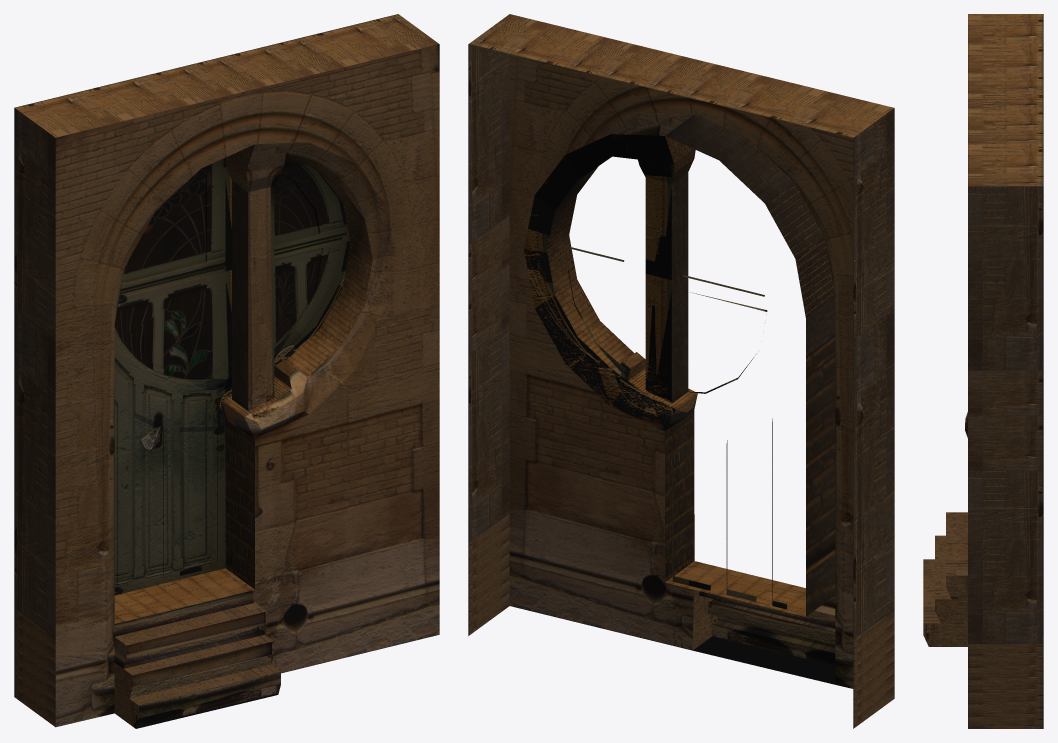
The picture shows the model from 3 angles, left to right: view 1: azimuth 30°, elevation 25°; view 2: azimuth 150°, elevation 25°; view 3: azimuth 270°, elevation 25°; orthographic projection. The views are drawn at different scales.
Visible parts, largest first — view 1: Circle, Circle.001; view 2: Circle, Circle.001; view 3: Circle.
Part boxes in pixels (x1,y1,x2,y2): Circle: (14,14,439,728); Circle.001: (114,158,350,595); Circle: (468,14,894,728); Circle.001: (524,134,787,609); Circle: (923,14,1043,728).
Size of the model in its own units: 120 by 177 by 35.46.
Materials: 2 (2 with a texture image).
